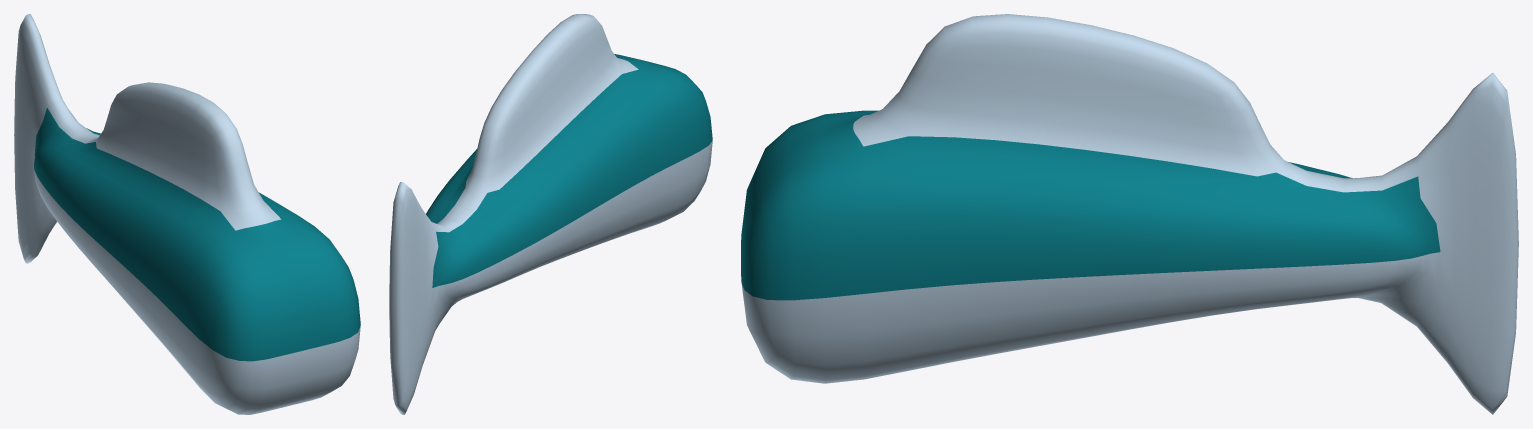
File: SmallFish.fbx
3 renders of one model, left to right at view 1: azimuth 30°, elevation 25°; view 2: azimuth 150°, elevation 25°; view 3: azimuth 270°, elevation 25°, orthographic. The views are drawn at different scales.
Parts seen in each view (by area): view 1: Cube; view 2: Cube; view 3: Cube.
Boxes of the visible parts, <box> form: Cube: <box>14,14,360,414</box>; Cube: <box>389,14,712,414</box>; Cube: <box>741,14,1518,414</box>.
Size of the model in its own units: 42.25 by 80.21 by 142.
